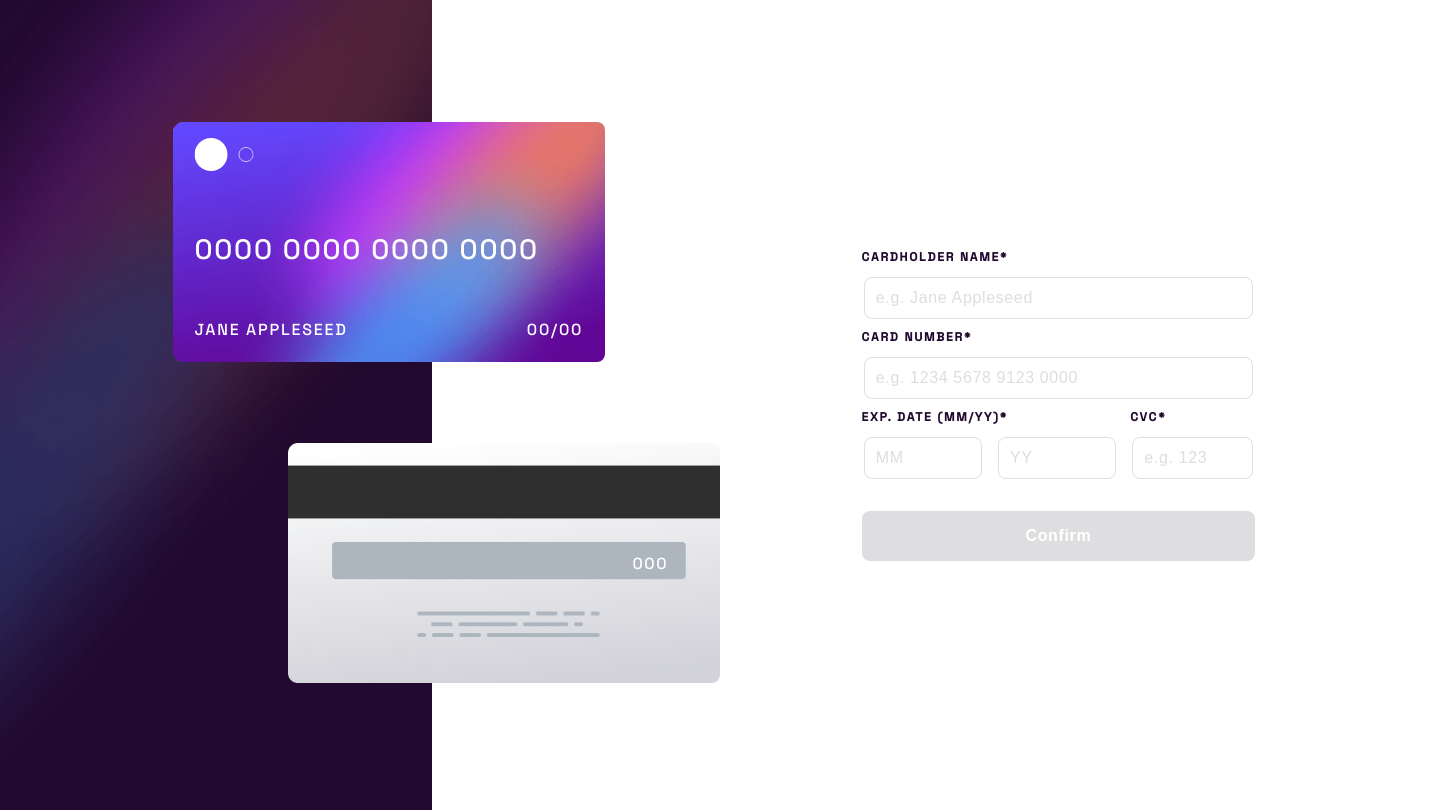
Test: validate form submission and app routing › form submits when all fields are filled in and are valid
This screenshot has width=1440, height=810.
Type "rose bud" into the field labelled "Cardholder name*".
click(1058, 298); type("rose bud")  # box [864, 277, 1253, 319]
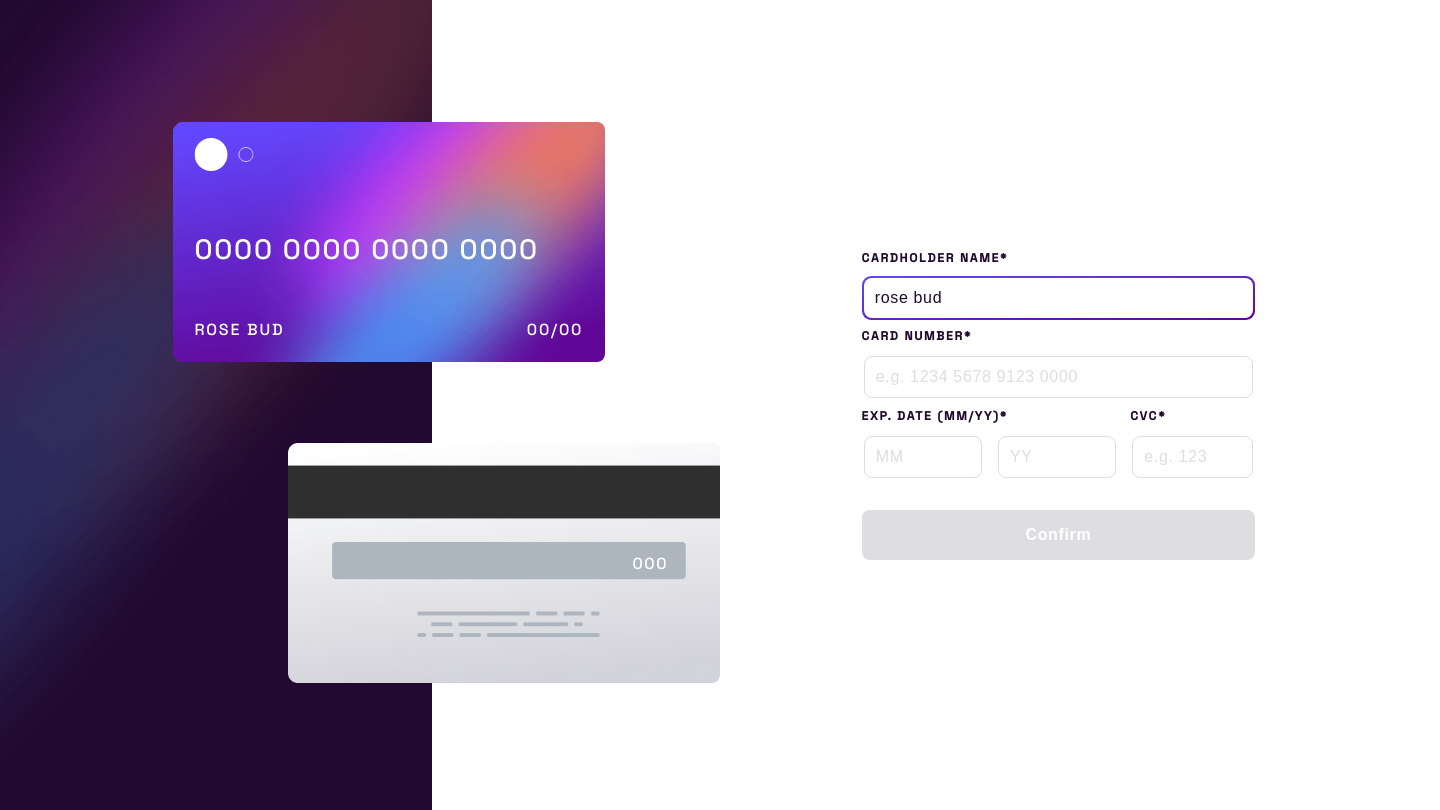
Type "4444 4444 4444 4" into the field labelled "Card number*".
click(1058, 377); type("4444 4444 4444 4")  # box [864, 356, 1253, 398]
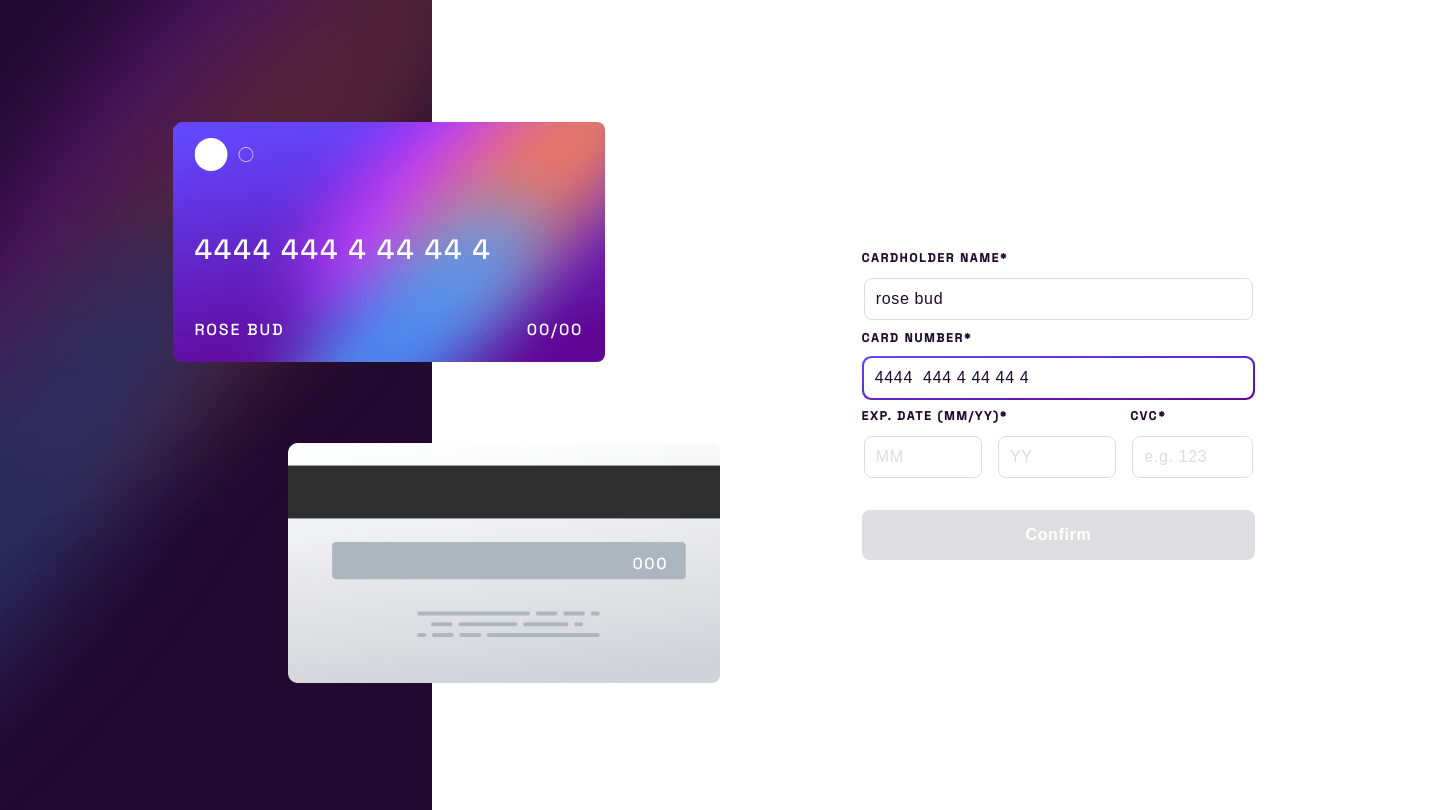
Type "11" into the field named "expiry month".
click(923, 457); type("11")  # box [864, 436, 982, 478]
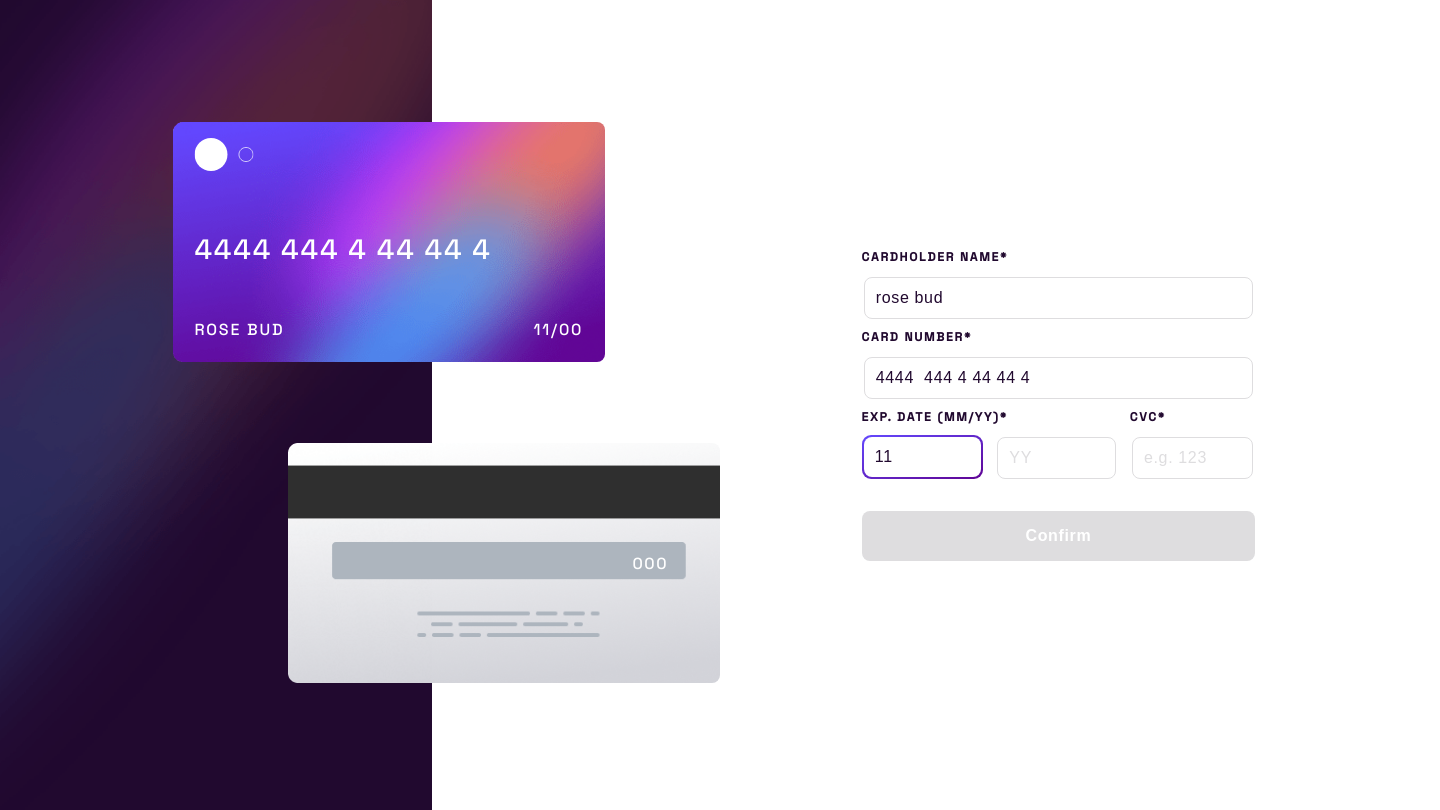
Type "23" into the field named "expiry year".
click(1056, 458); type("23")  # box [997, 437, 1116, 479]
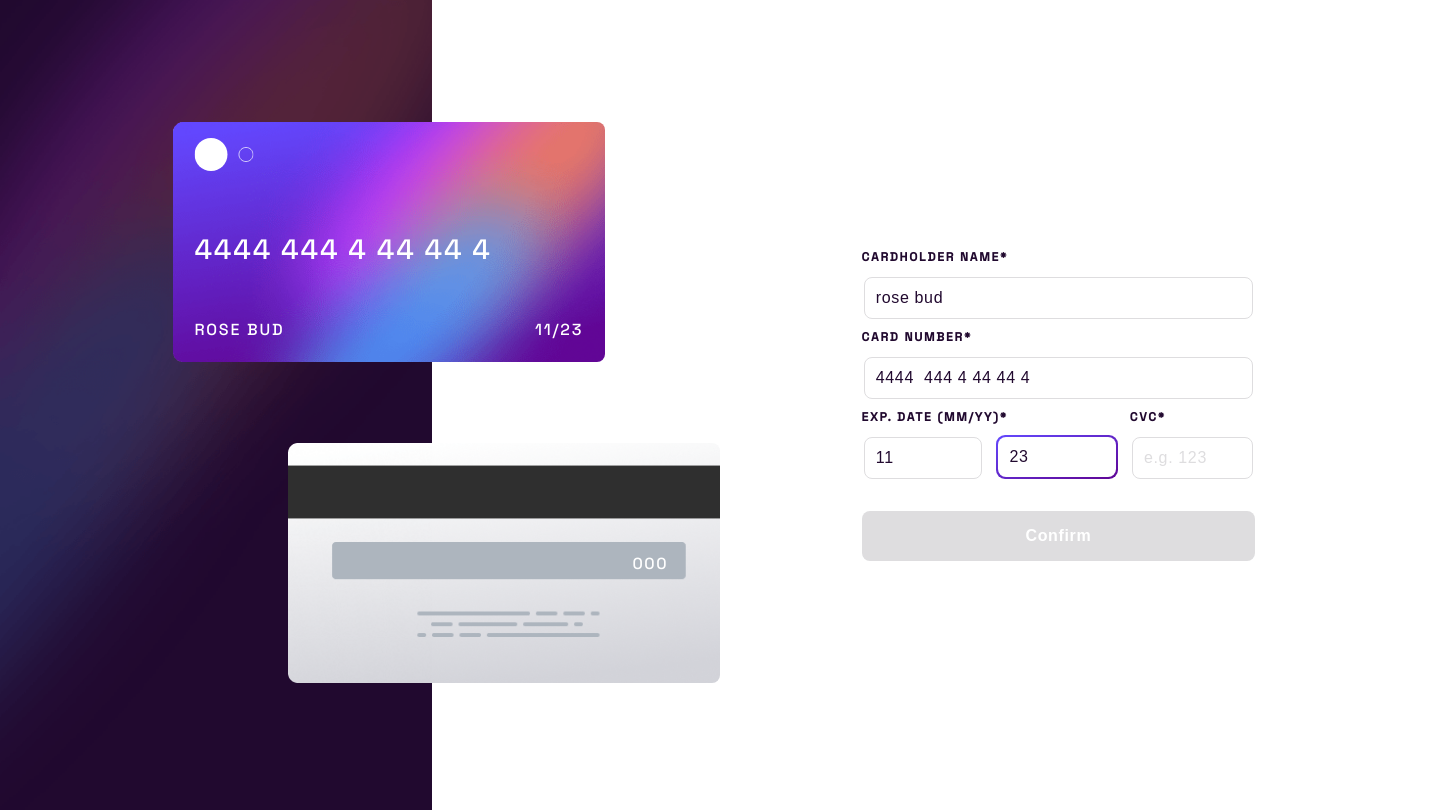
Type "123" into the field labelled "CVC*".
click(1192, 458); type("123")  # box [1132, 437, 1253, 479]
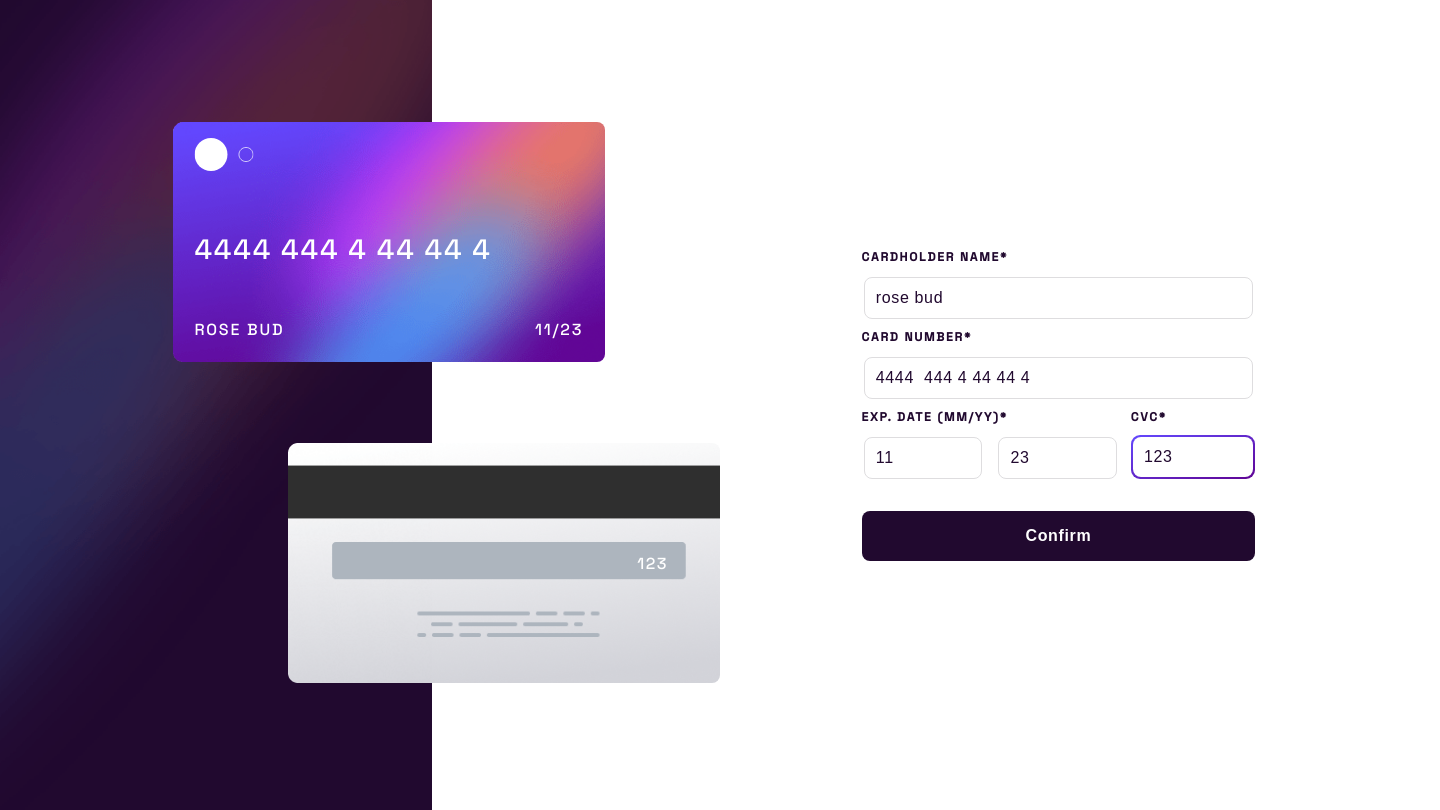
Click the button "Confirm".
click(1058, 536)  # box [862, 511, 1255, 561]
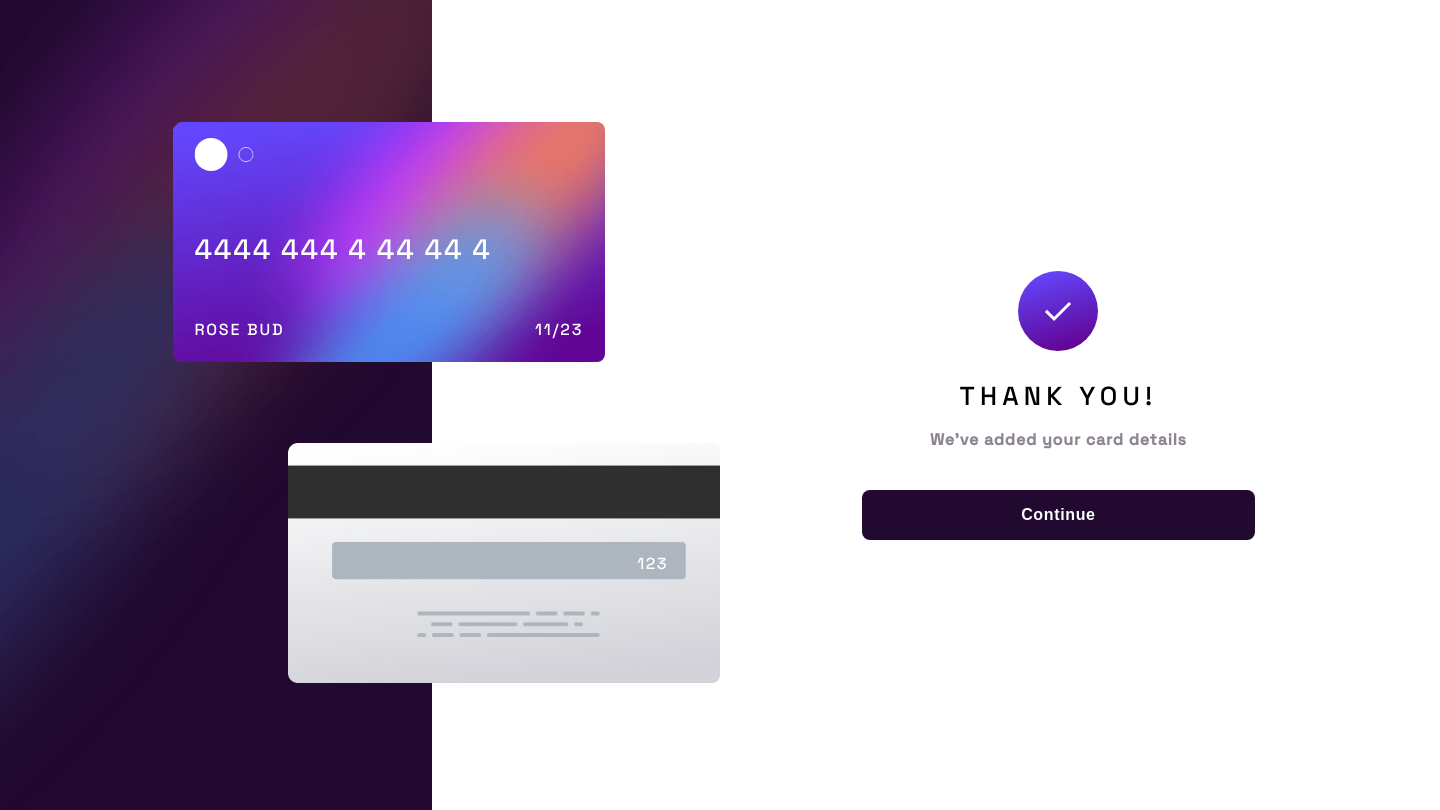
Check: the heading "Thank You!" is shown, box [959, 378, 1157, 412]
